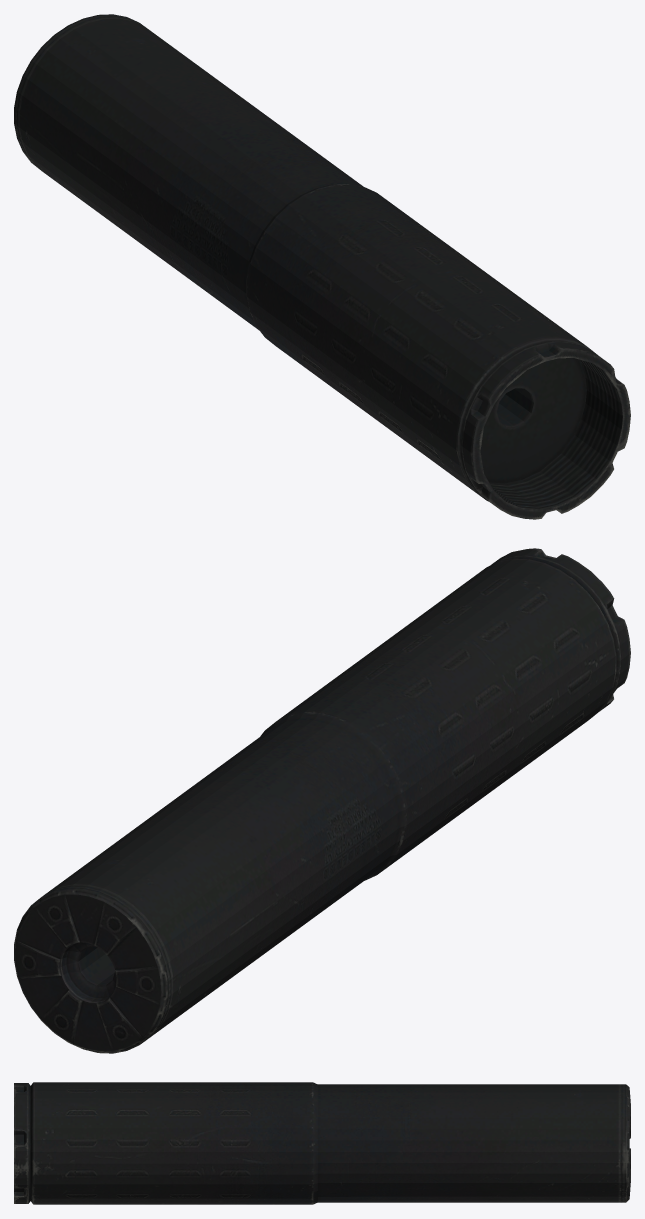
The picture shows the model from 3 angles, top to bottom: view 1: azimuth 30°, elevation 25°; view 2: azimuth 150°, elevation 25°; view 3: azimuth 270°, elevation 25°; orthographic projection. The views are drawn at different scales.
Visible parts, largest first — view 1: TW_59bffbb386f77435b379b9c2_PZ_Import; view 2: TW_59bffbb386f77435b379b9c2_PZ_Import; view 3: TW_59bffbb386f77435b379b9c2_PZ_Import.
Part boxes in pixels (left/top/right/bottom): TW_59bffbb386f77435b379b9c2_PZ_Import: left=14, top=14, right=630, bottom=519; TW_59bffbb386f77435b379b9c2_PZ_Import: left=14, top=548, right=630, bottom=1053; TW_59bffbb386f77435b379b9c2_PZ_Import: left=14, top=1082, right=630, bottom=1204.
Size of the model in its own units: 0.0225 by 0.114 by 0.0225.
1 material, 1 textured.
